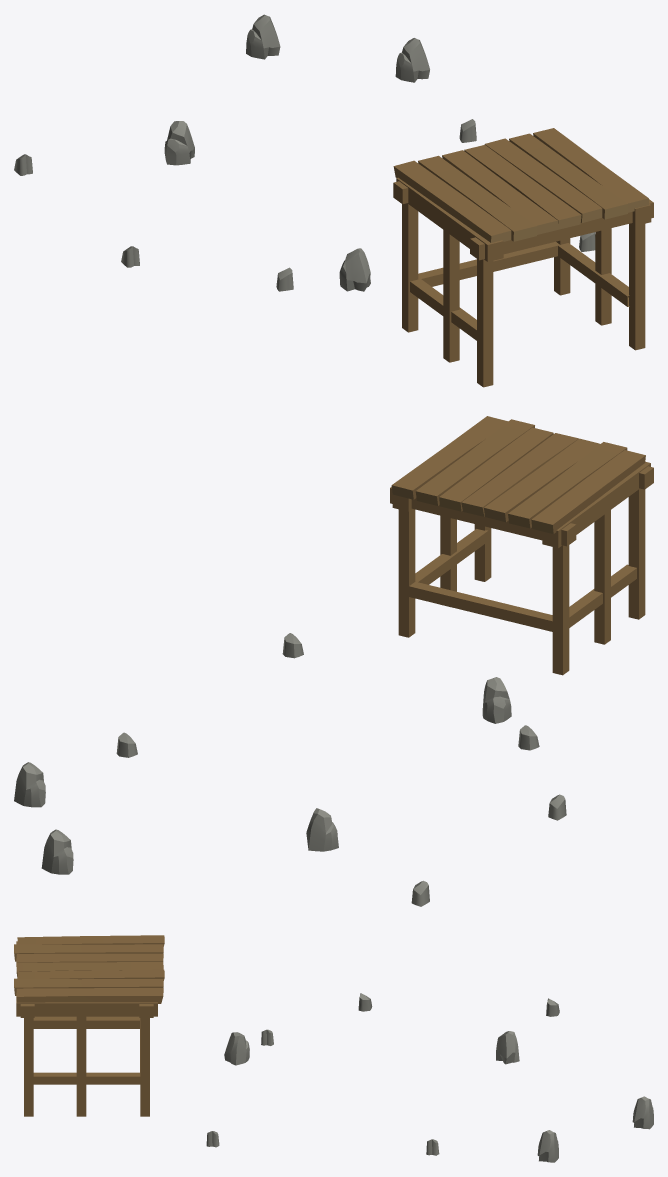
File: quarry.glb
The picture shows the model from 3 angles, top to bottom: view 1: azimuth 30°, elevation 25°; view 2: azimuth 150°, elevation 25°; view 3: azimuth 270°, elevation 25°; orthographic projection. The views are drawn at different scales.
Parts seen in each view (by area): view 1: quarry; view 2: quarry; view 3: quarry.
Part boxes in pixels (<box>): quarry: <box>14,14,653,387</box>; quarry: <box>14,416,653,906</box>; quarry: <box>14,935,653,1162</box>.
Size of the model in its own units: 1.3 by 0.4738 by 2.21.
